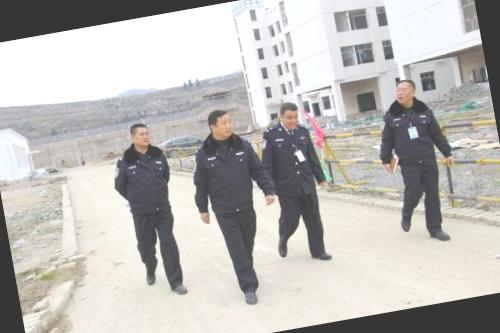no_helmet: (201, 106, 238, 144), (272, 98, 303, 136), (125, 116, 157, 152), (388, 73, 421, 106)
